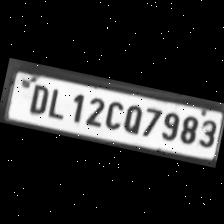1: (62, 87, 86, 123)
2: (81, 91, 107, 127)
3: (194, 113, 218, 149)
7: (136, 102, 162, 138)
8: (176, 109, 201, 145)
9: (155, 106, 182, 142)
C: (100, 94, 125, 130)
D: (22, 79, 51, 115)
L: (45, 84, 69, 120)
Q: (118, 98, 144, 134)
